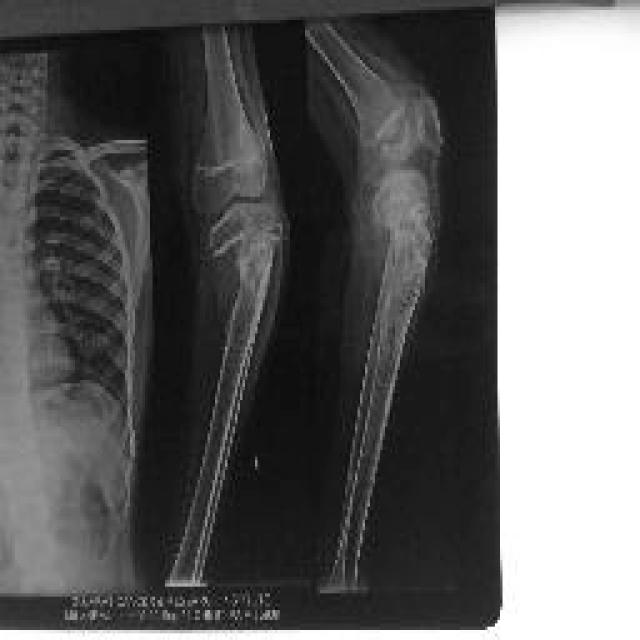bone-cancer: (365, 170, 436, 388), (218, 213, 288, 392)
